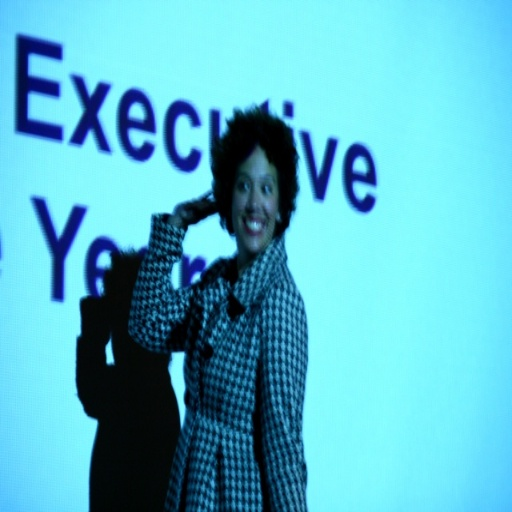hand: (176, 187, 219, 226)
